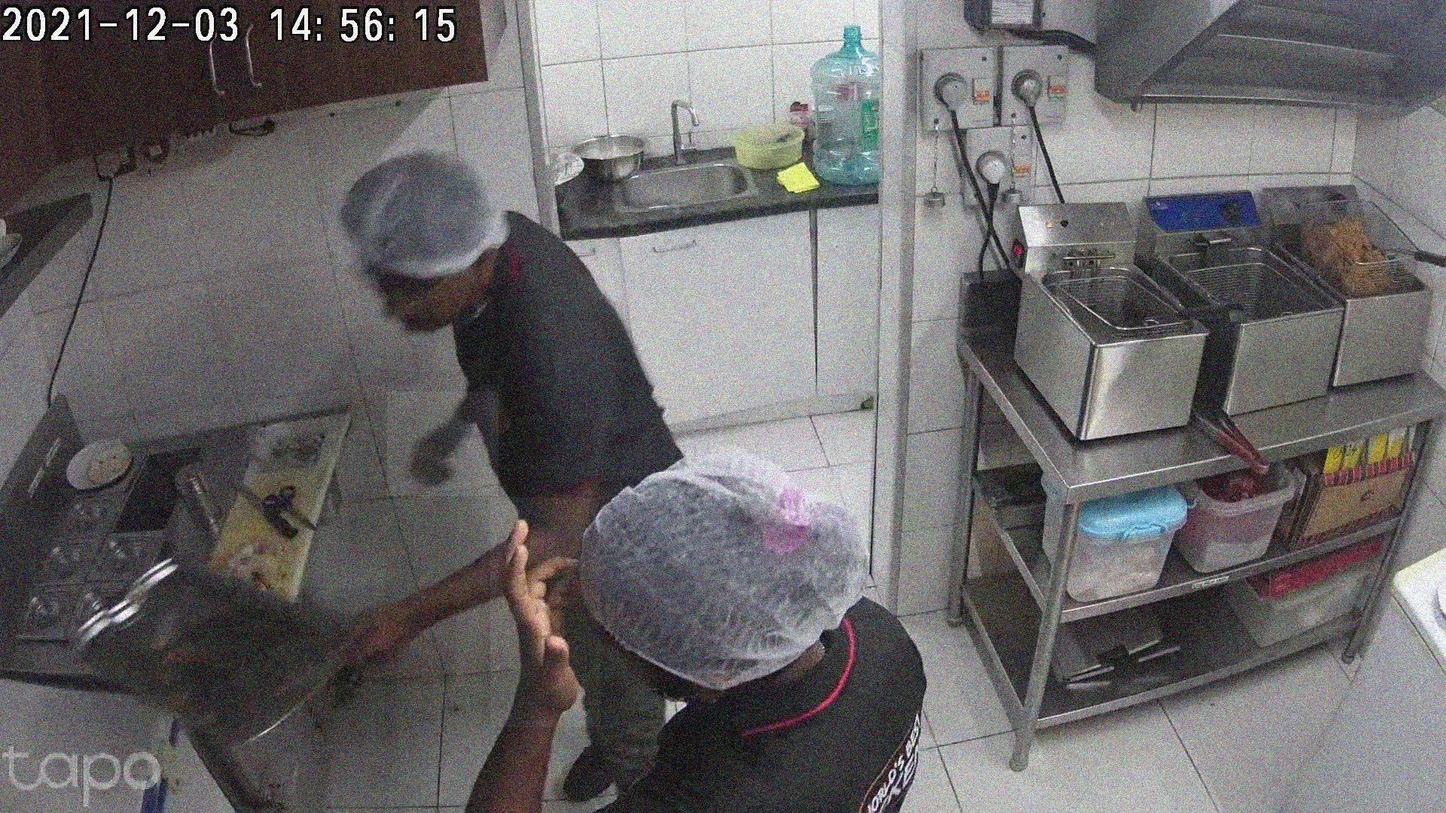apron: (387, 392, 499, 497)
gloves: (583, 472, 895, 684), (337, 146, 518, 284)
no_apron: (490, 498, 600, 728), (334, 588, 456, 686)
no_hairnet: (369, 266, 467, 330)
